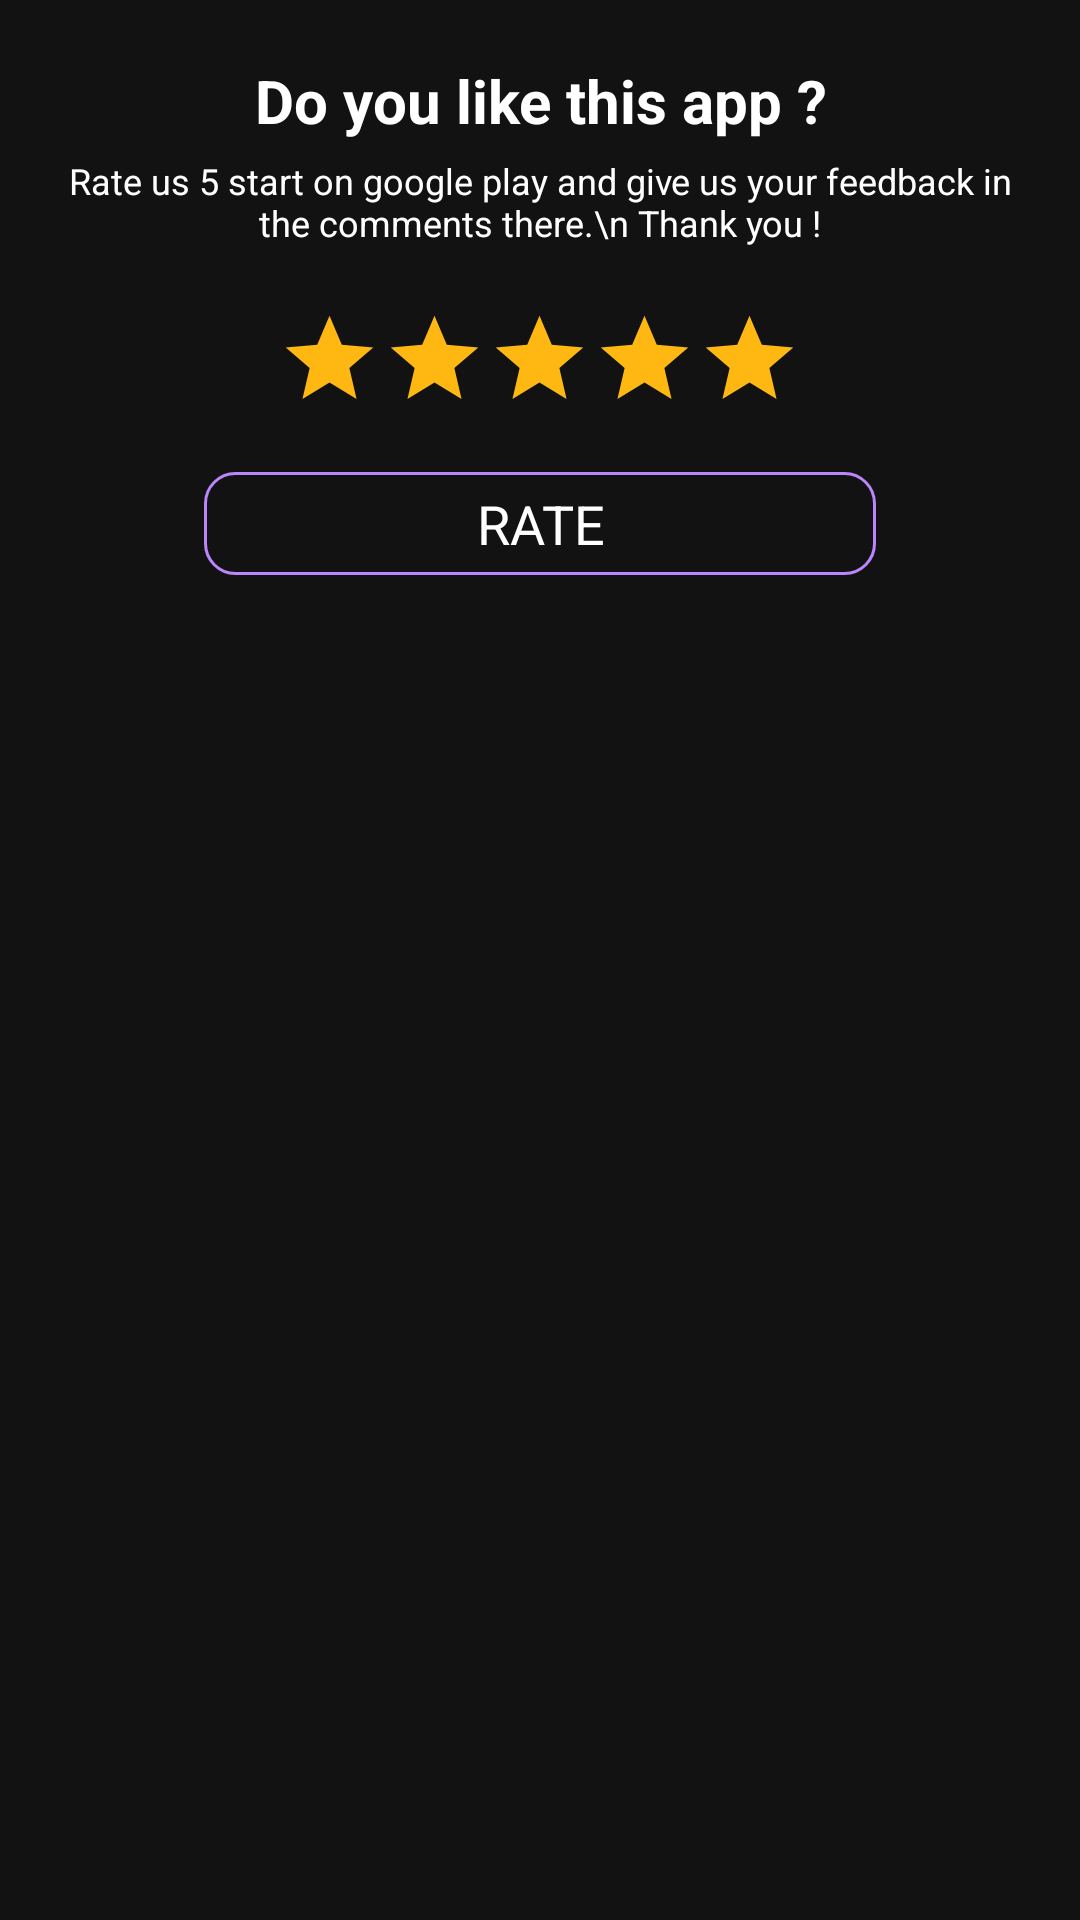

Point at icon controls on the screen. Image size 1080*1920, points as (x,y).
star golden: (329,357), (434,357), (539,357), (644,357), (749,357)
